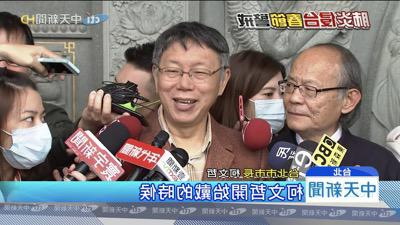with_mask: (2, 107, 53, 167), (245, 85, 288, 136)
without_mask: (157, 56, 219, 126), (285, 72, 345, 136)
